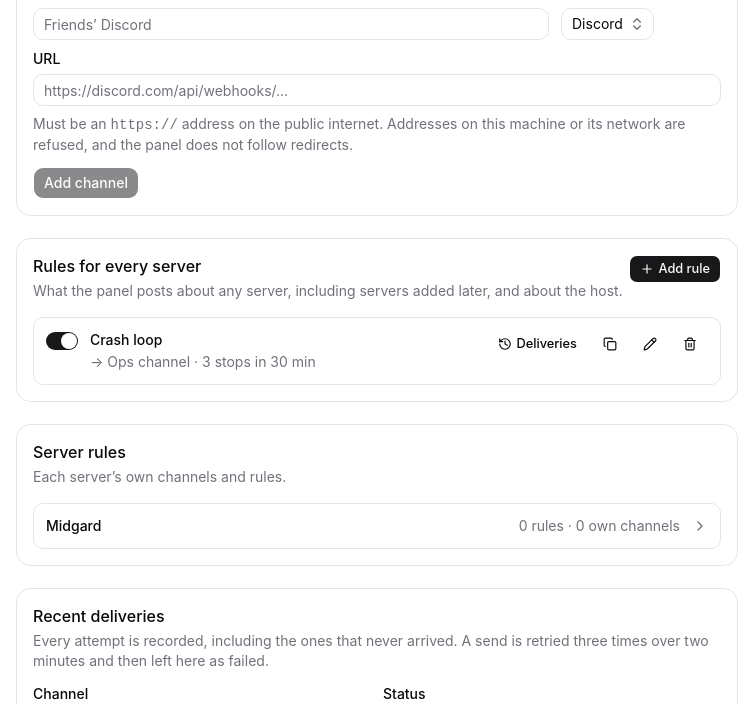
the deliveries › shows only the deliveries a rule sent, and clears back to all
(page scrolled)
Click the button "Deliveries".
click(538, 344)  # box [488,330,588,358]
(page scrolled)
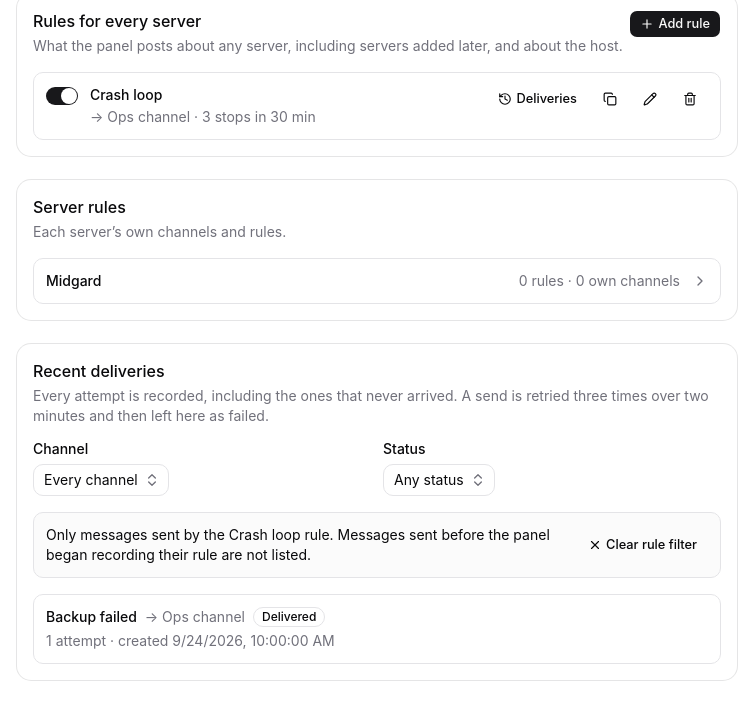
Expected: the element with test id "delivery-rule-filter" shows "Only messages sent by the Crash loop rule.", [46,526,550,563]
Click the button "Clear rule filter".
click(643, 545)  # box [577,531,708,559]
(page scrolled)
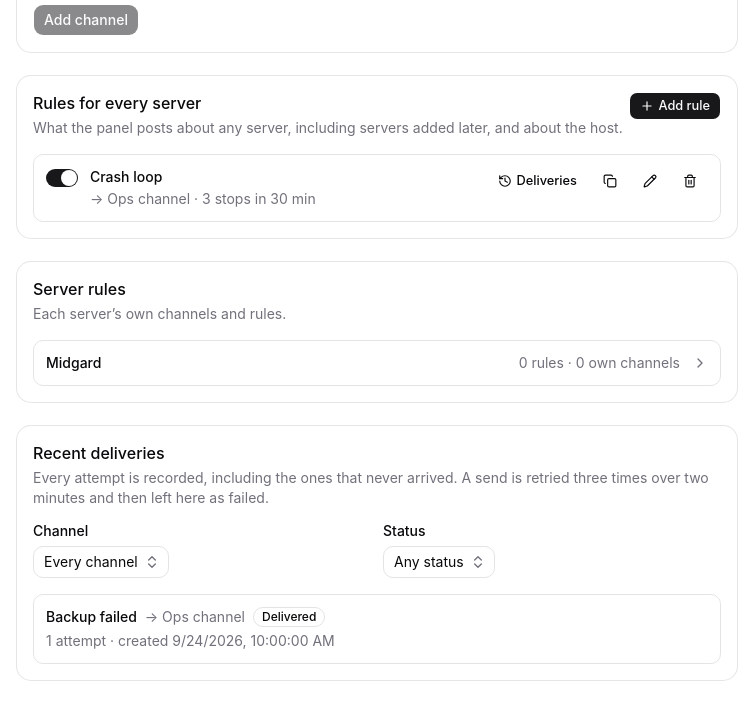
Expected: the element with test id "delivery-rule-filter" is gone
